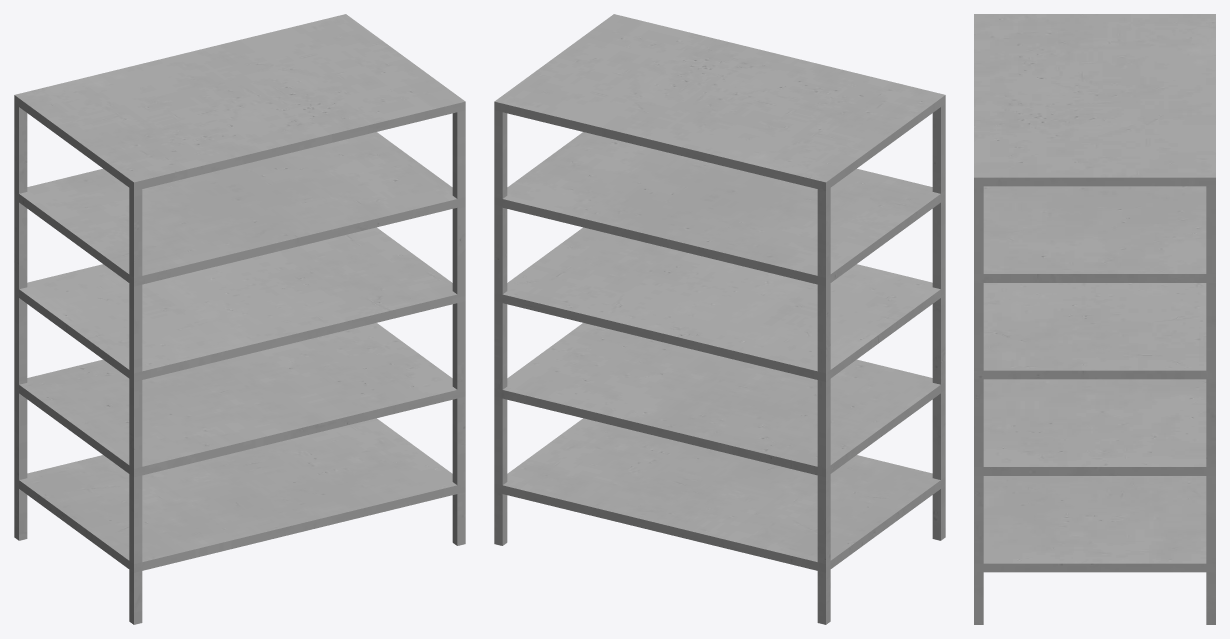
Rendered from shoe_cabinet.glb.
3 renders of one model, left to right at view 1: azimuth 30°, elevation 25°; view 2: azimuth 150°, elevation 25°; view 3: azimuth 270°, elevation 25°, orthographic.
Visible parts, largest first — view 1: rack; view 2: rack; view 3: rack.
Part boxes in pixels (x1,y1,x2,y2): rack: (14, 14, 465, 624); rack: (494, 14, 945, 624); rack: (974, 14, 1215, 624).
Bounding box in the file's own units: 0.8 × 1.02 × 0.5.
Materials: 1 (1 with a texture image).
